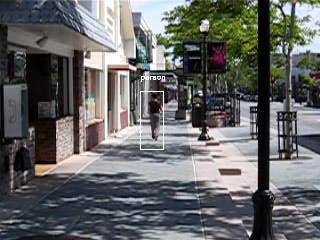person: (148, 92, 163, 143), (147, 92, 162, 143), (149, 92, 164, 143), (148, 91, 163, 142), (148, 93, 163, 144)
target_negative: (189, 141, 276, 175), (72, 209, 189, 222), (291, 112, 299, 219), (204, 88, 216, 124), (299, 168, 319, 189)
